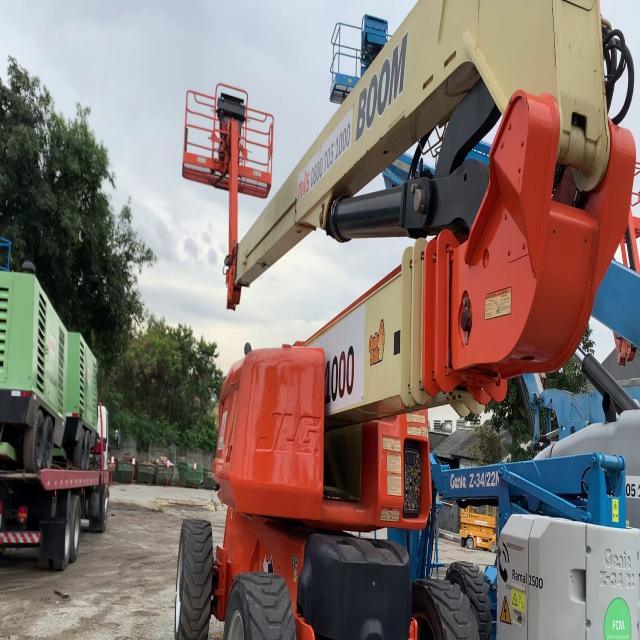Adesivo Longo: (294, 96, 355, 207)
